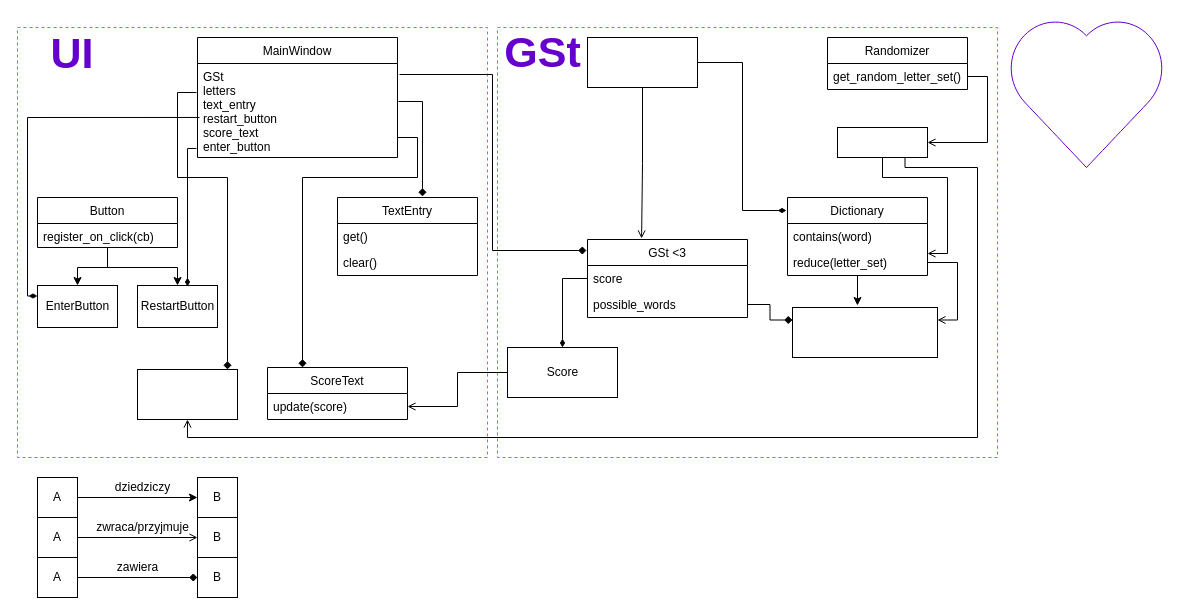
This 1184x615 diagram has some shape labels left out. Here are the shapes that lost their labels. From the top down, the centre of each, then its label:
At pixel 642 62: "GameFactory".
At pixel 882 142: "LetterSet".
At pixel 865 332: "PossibleWordsDictionary".
At pixel 187 394: "Letters".
